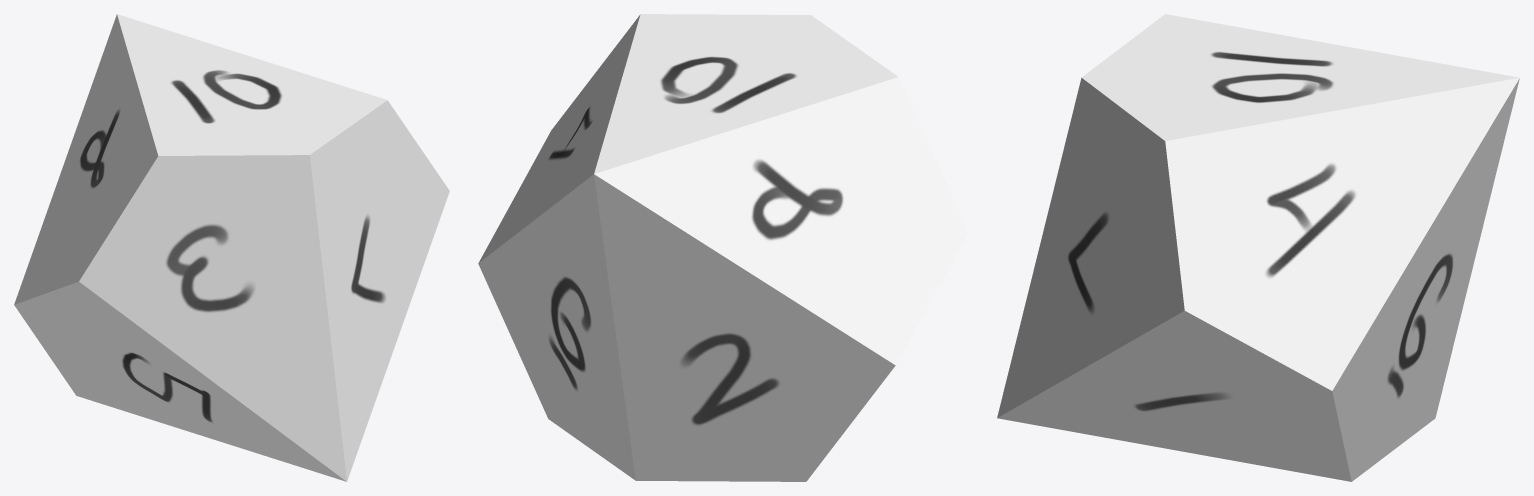
The picture shows the model from 3 angles, left to right: view 1: azimuth 30°, elevation 25°; view 2: azimuth 150°, elevation 25°; view 3: azimuth 270°, elevation 25°; orthographic projection. The views are drawn at different scales.
Visible parts, largest first — view 1: d10; view 2: d10; view 3: d10.
Boxes of the visible parts, <box> form: d10: <box>14,14,449,481</box>; d10: <box>478,14,968,481</box>; d10: <box>997,14,1519,481</box>.
Bounding box in the file's own units: 2.58 × 1.99 × 2.77.
1 material, 1 textured.
